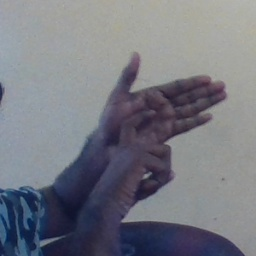R: (90, 48, 232, 195)
